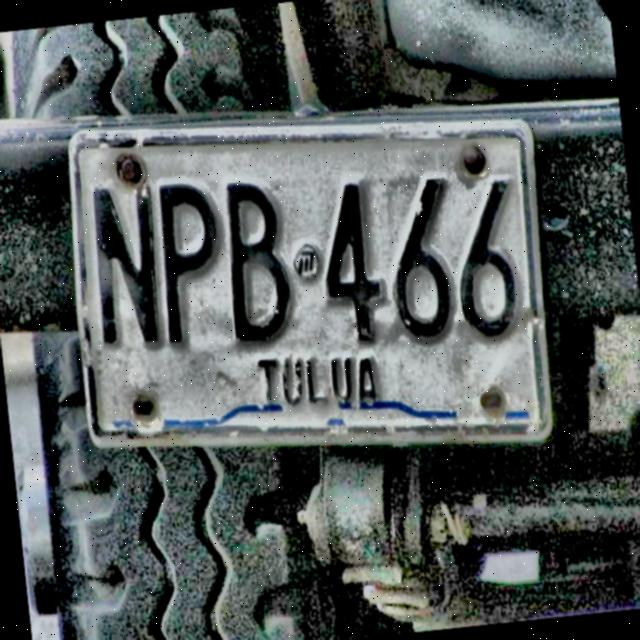4: (317, 178, 387, 349)
6: (451, 170, 528, 346), (381, 172, 458, 347)
B: (222, 180, 294, 352)
N: (90, 184, 164, 351)
P: (156, 181, 224, 350)
